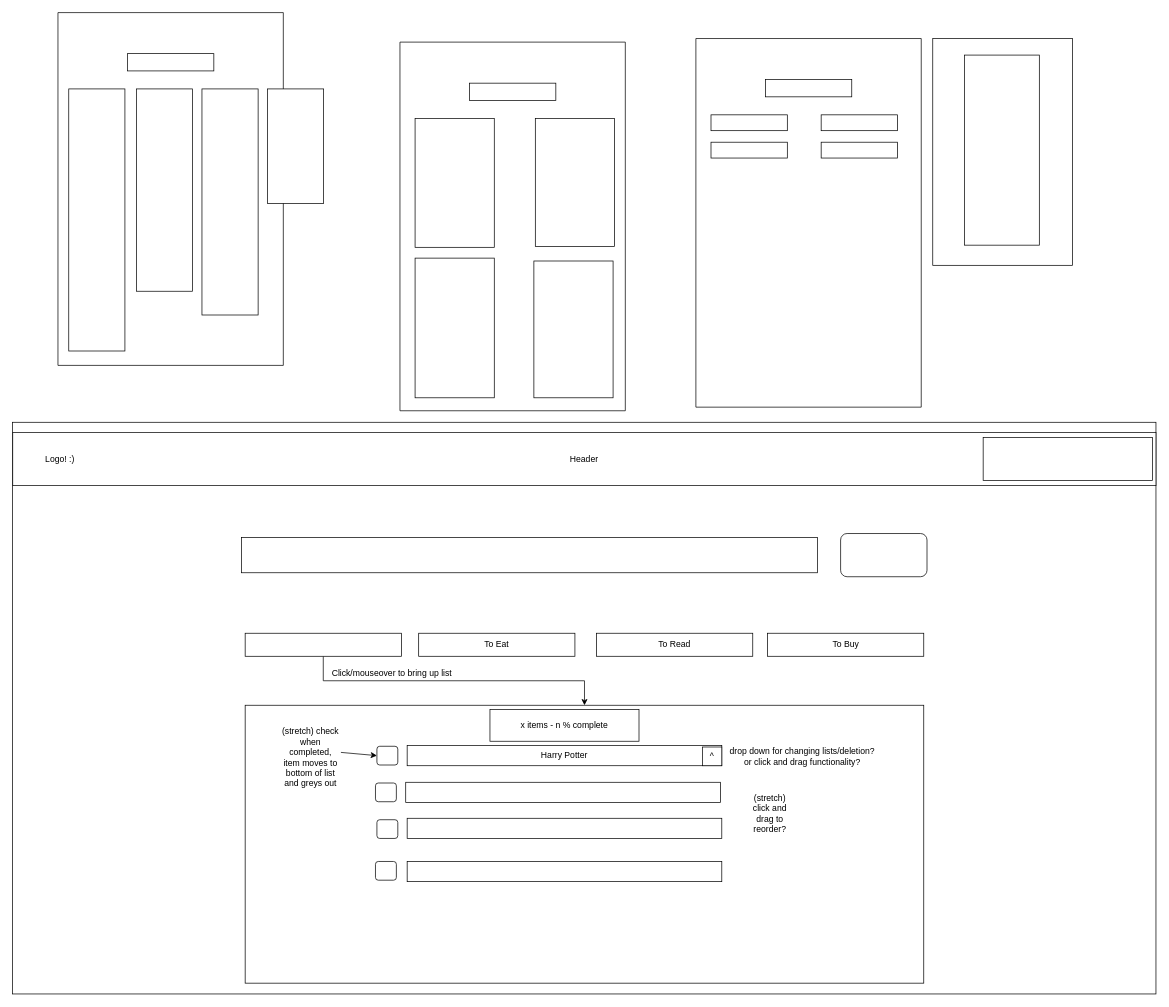
The diagram is 1169 pixels wide and 1007 high, and some of its shapes have lost their labels. Here are the shapes that lost their labels. From the top down, the box of each, then its label:
(982, 437, 1152, 481): Logged in user information
(241, 537, 818, 573): Text form for items
(840, 533, 927, 577): submit
(244, 633, 401, 656): To Watch List
